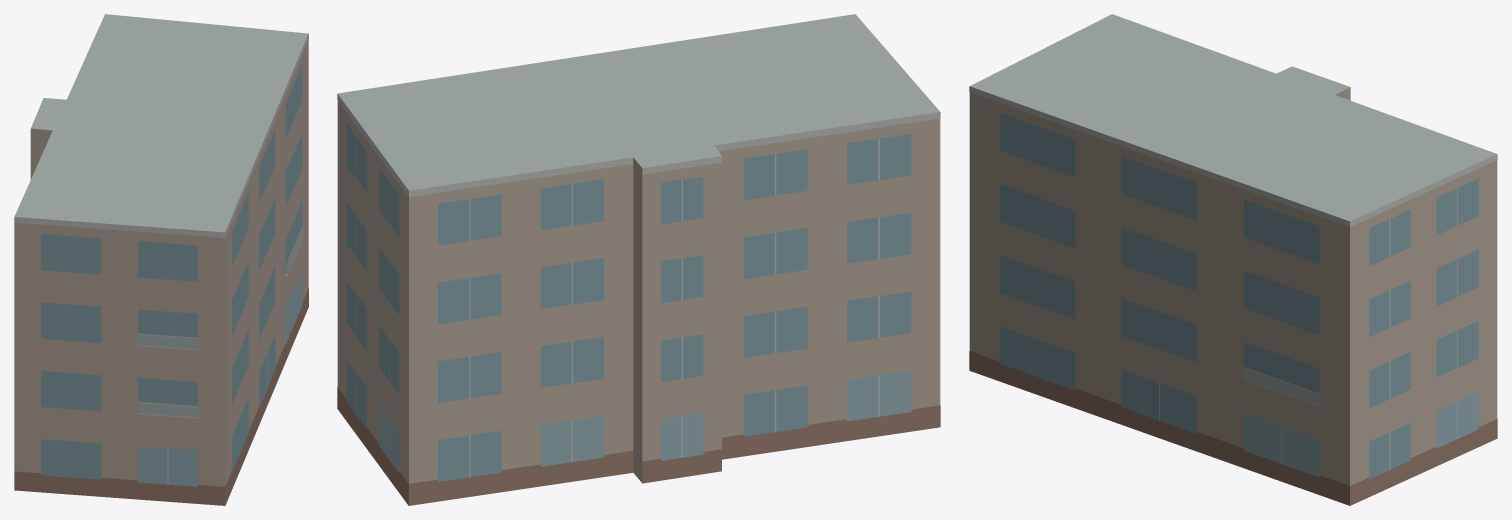
Rendered from survey-upis-32892096.glb.
3 renders of one model, left to right at view 1: azimuth 30°, elevation 25°; view 2: azimuth 150°, elevation 25°; view 3: azimuth 270°, elevation 25°, orthographic. The views are drawn at different scales.
Visible parts, largest first — view 1: survey-upis-32892096.tmp; view 2: survey-upis-32892096.tmp; view 3: survey-upis-32892096.tmp.
Boxes of the visible parts, x1,y1,x2,y2 form: survey-upis-32892096.tmp: (14,14,308,505); survey-upis-32892096.tmp: (337,14,940,505); survey-upis-32892096.tmp: (969,14,1497,505).
Size of the model in its own units: 18.54 by 11.85 by 19.95.
